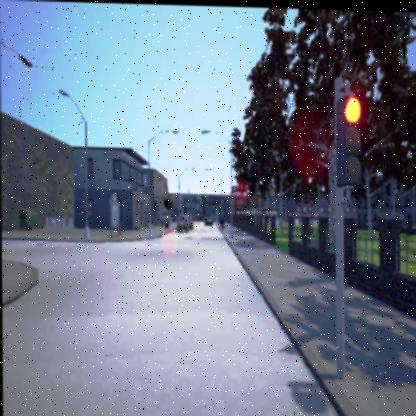vehicle: (176, 213, 192, 230), (203, 212, 212, 224)
